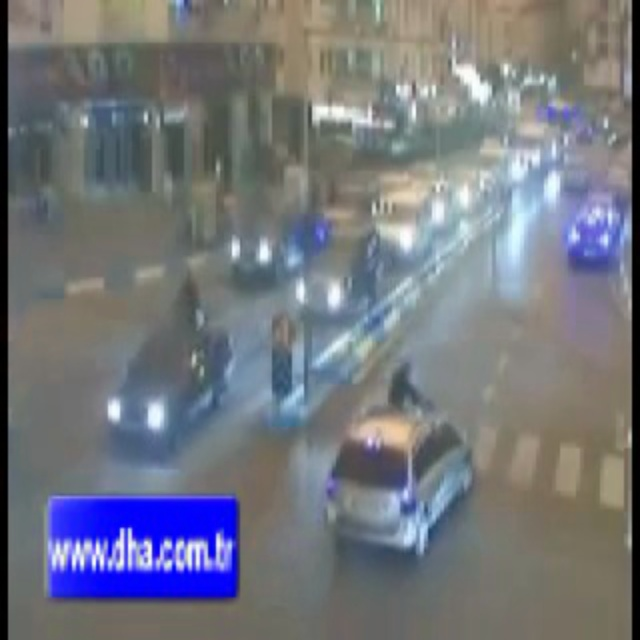acc: (330, 356, 478, 552)
